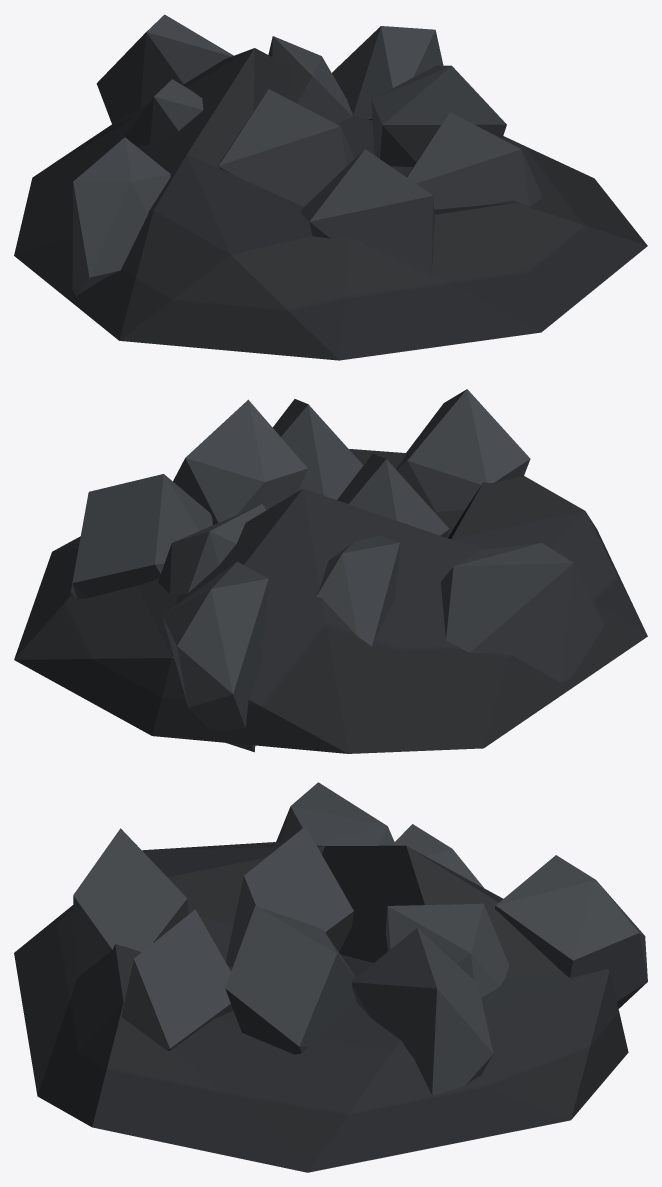
Rendered from SM_Prop_Brazier_05_Insert_01.fbx.
The picture shows the model from 3 angles, top to bottom: view 1: azimuth 30°, elevation 25°; view 2: azimuth 150°, elevation 25°; view 3: azimuth 270°, elevation 25°; orthographic projection. The views are drawn at different scales.
Visible parts, largest first — view 1: SM_Prop_Brazier_05_Insert_01; view 2: SM_Prop_Brazier_05_Insert_01; view 3: SM_Prop_Brazier_05_Insert_01.
Part boxes in pixels (x1,y1,x2,y2): SM_Prop_Brazier_05_Insert_01: (14, 14, 647, 360); SM_Prop_Brazier_05_Insert_01: (14, 389, 647, 753); SM_Prop_Brazier_05_Insert_01: (14, 782, 647, 1172).
Bounding box in the file's own units: 58.98 × 21.07 × 58.07.
